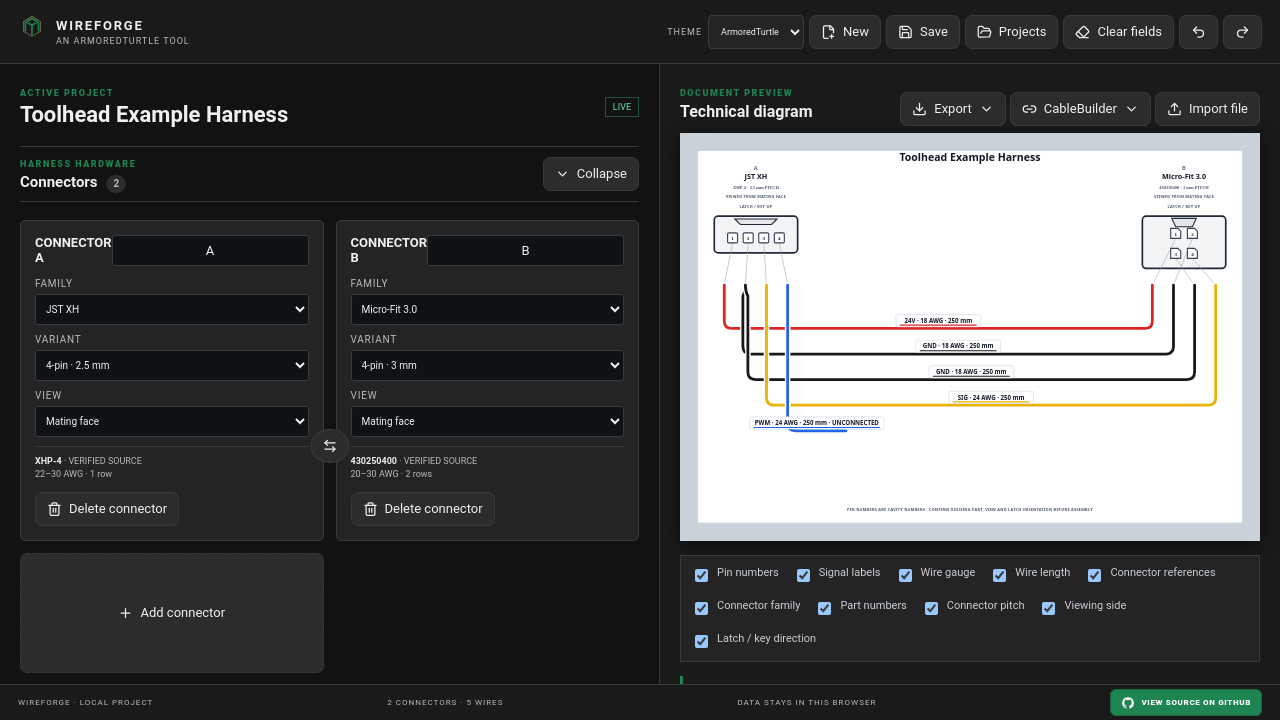
Scenario: editor flow › uses JST XH by default and deletes a connector
Step 1. Click the button with aria-label "Remove connector B" → coordinates (423, 508), box x1=350 y1=492 x2=495 y2=526
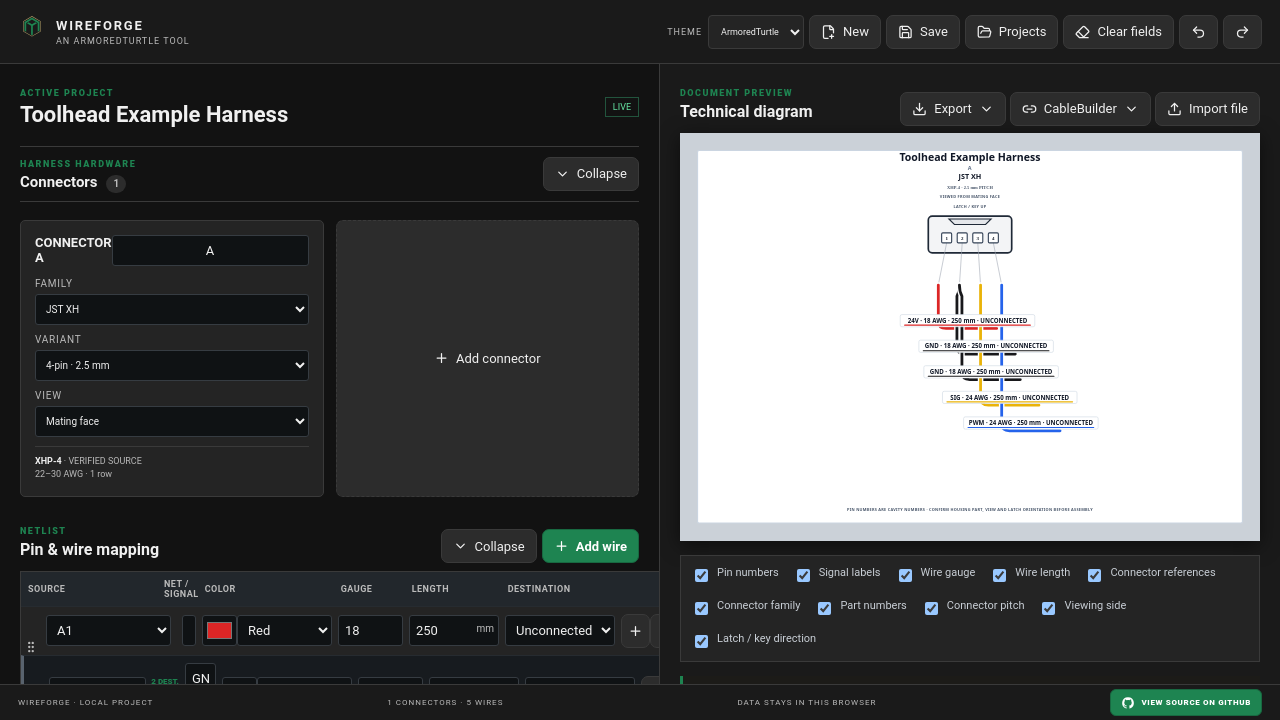
Check: the text "1 CONNECTORS · 5 WIRES" is shown, box x1=387 y1=698 x2=503 y2=707
